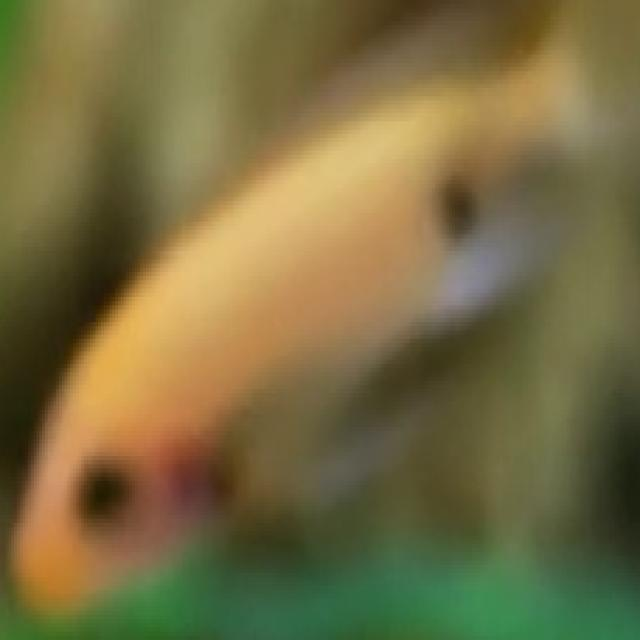fish: (0, 4, 637, 640)
